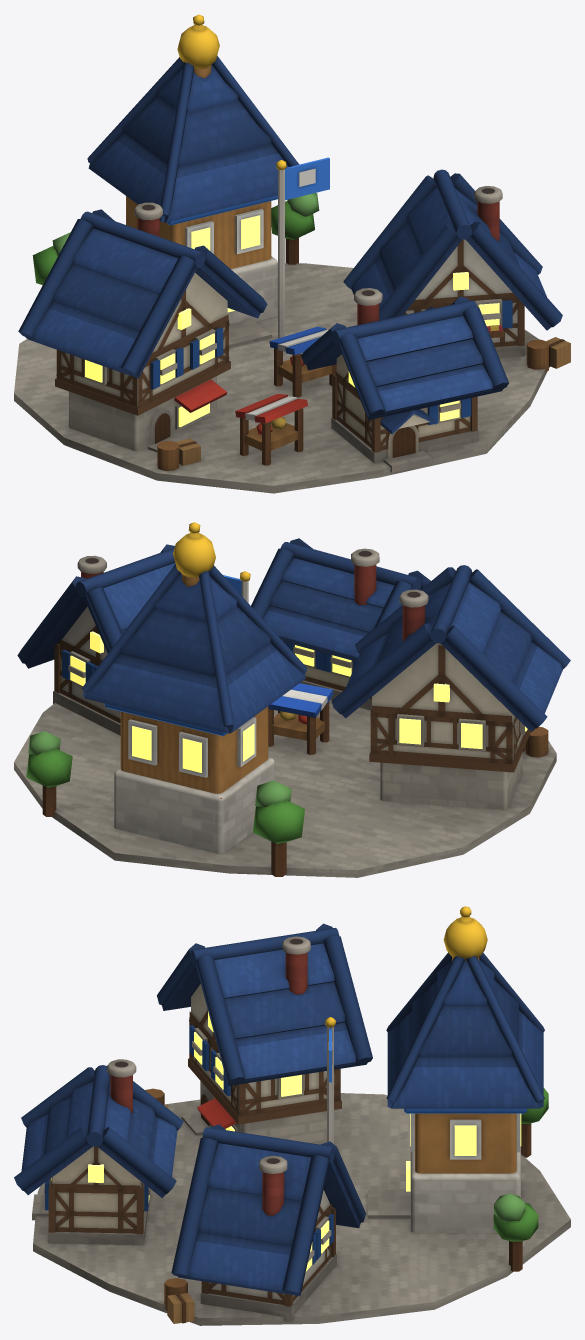
Rendered from city_dl3_blue.glb.
3 views of the same model, one above another, from view 1: azimuth 30°, elevation 25°; view 2: azimuth 150°, elevation 25°; view 3: azimuth 270°, elevation 25° (orthographic).
Visible parts, largest first — view 1: city_dl3_blue; view 2: city_dl3_blue; view 3: city_dl3_blue.
Part boxes in pixels (x1,y1,x2,y2): city_dl3_blue: (14,14,570,493); city_dl3_blue: (14,522,570,877); city_dl3_blue: (14,906,570,1325).
Bounding box in the file's own units: 1.58 × 0.8794 × 1.44.
2 materials, 1 textured.
